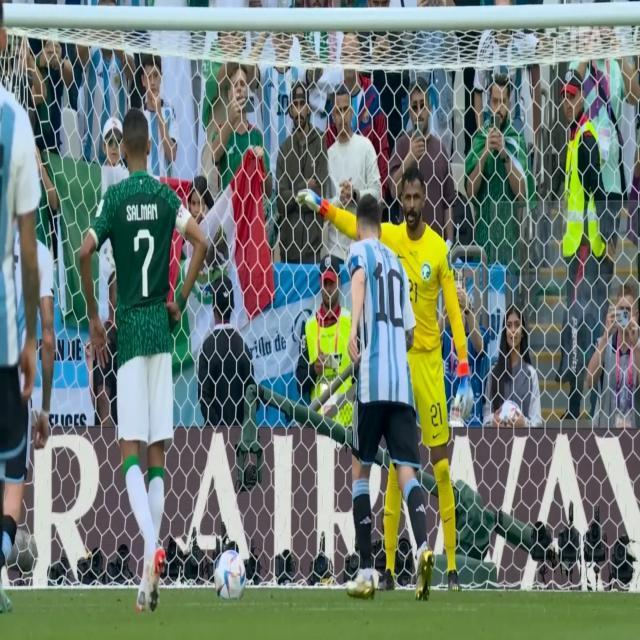football: (200, 542, 259, 605)
